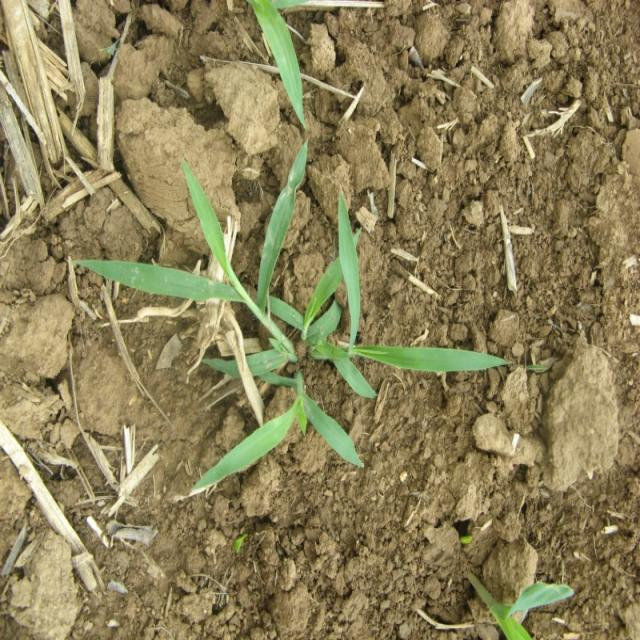bg: (72, 143, 508, 485)
